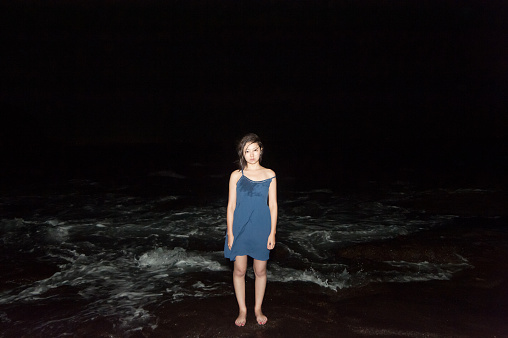em pe: (227, 118, 287, 338)
